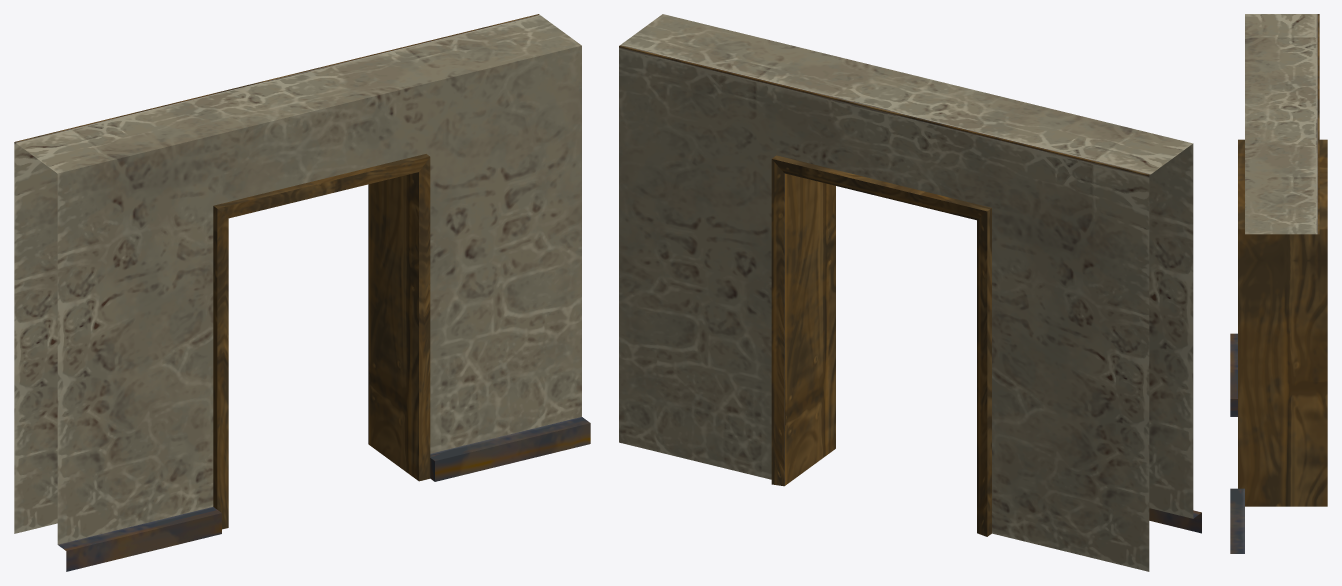
File: BrickWD_5X7_V1.fbx
3 views of the same model, side by side, from view 1: azimuth 30°, elevation 25°; view 2: azimuth 150°, elevation 25°; view 3: azimuth 270°, elevation 25° (orthographic). The views are drawn at different scales.
Parts seen in each view (by area): view 1: BrickWD_5X7_V1; view 2: BrickWD_5X7_V1; view 3: BrickWD_5X7_V1.
Part boxes in pixels (left/top/right/bottom): BrickWD_5X7_V1: left=14, top=14, right=590, bottom=571; BrickWD_5X7_V1: left=619, top=14, right=1201, bottom=571; BrickWD_5X7_V1: left=1230, top=14, right=1327, bottom=553.
Bounding box in the file's own units: 7000 × 5000 × 1309.
